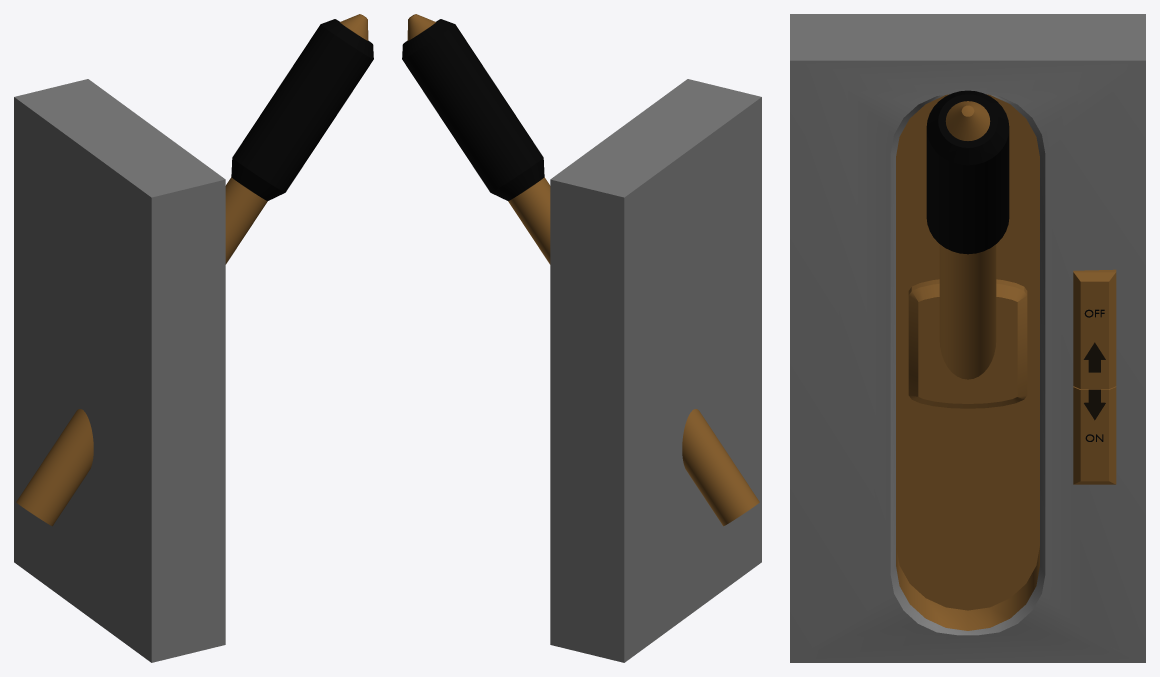
File: roughLVL5.fbx
3 views of the same model, side by side, from view 1: azimuth 30°, elevation 25°; view 2: azimuth 150°, elevation 25°; view 3: azimuth 270°, elevation 25° (orthographic). The views are drawn at different scales.
Visible parts, largest first — view 1: levelBase, leverHandle; view 2: levelBase, leverHandle; view 3: levelBase, leverHandle.
Part boxes in pixels (<box>): levelBase: <box>14,79,225,662</box>; leverHandle: <box>16,14,373,526</box>; levelBase: <box>550,79,761,662</box>; leverHandle: <box>402,14,759,526</box>; levelBase: <box>790,14,1145,662</box>; leverHandle: <box>926,90,1009,379</box>.
Size of the model in its own units: 26.08 by 37.79 by 17.76.
